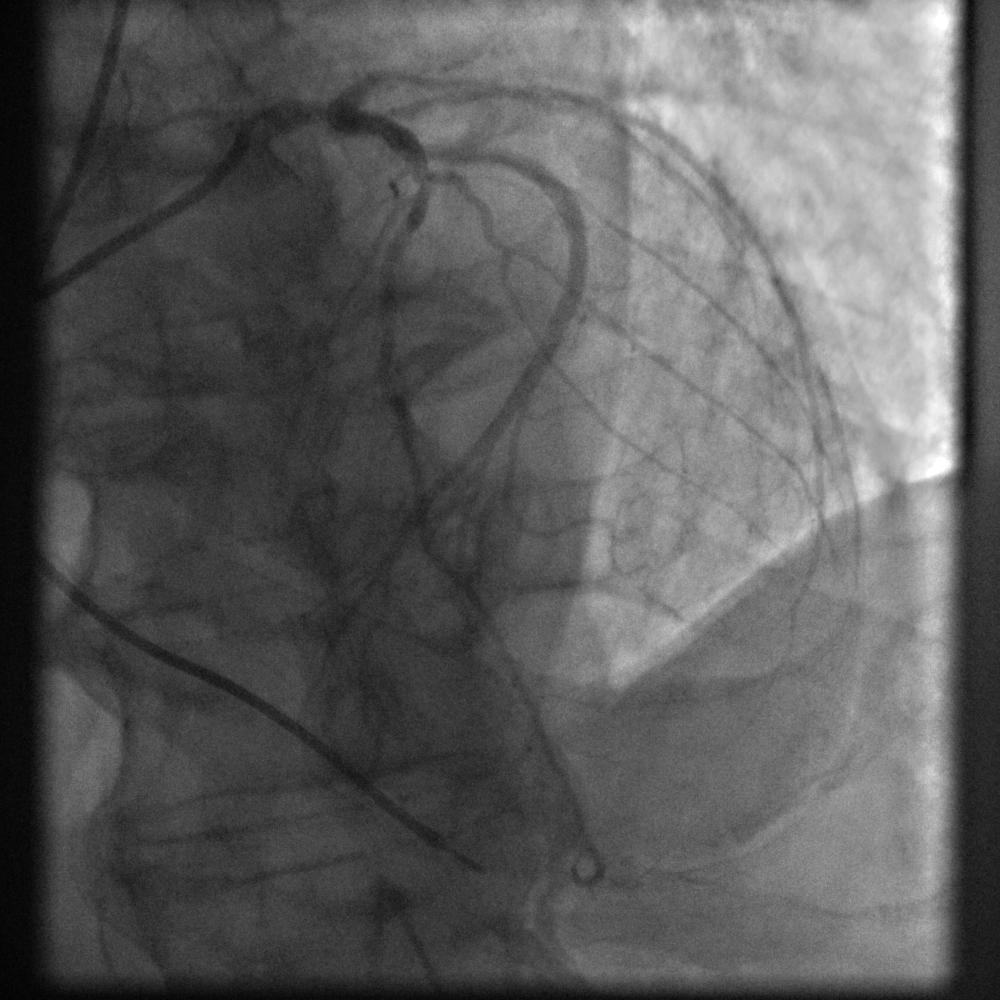Stenosis: (402, 158, 450, 211)
